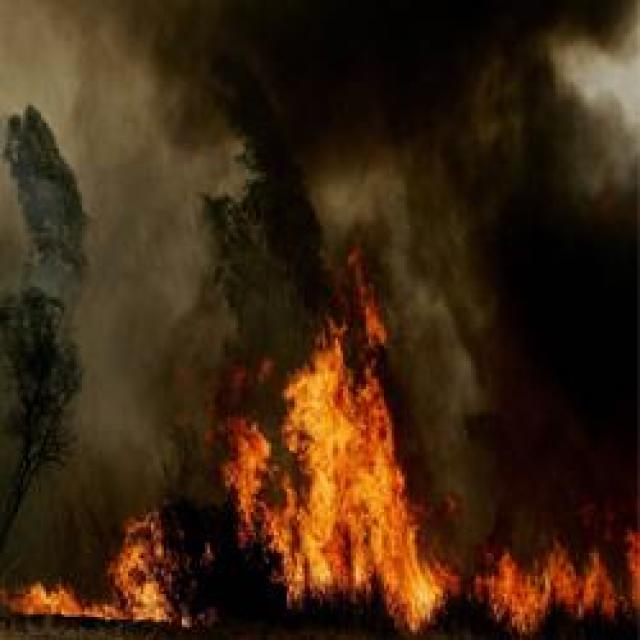fire: (238, 375, 436, 620), (480, 534, 640, 618), (115, 555, 161, 623)
smoke: (282, 0, 501, 223), (461, 159, 640, 412), (481, 9, 635, 159), (493, 401, 640, 514), (96, 11, 211, 153), (400, 175, 474, 326)
